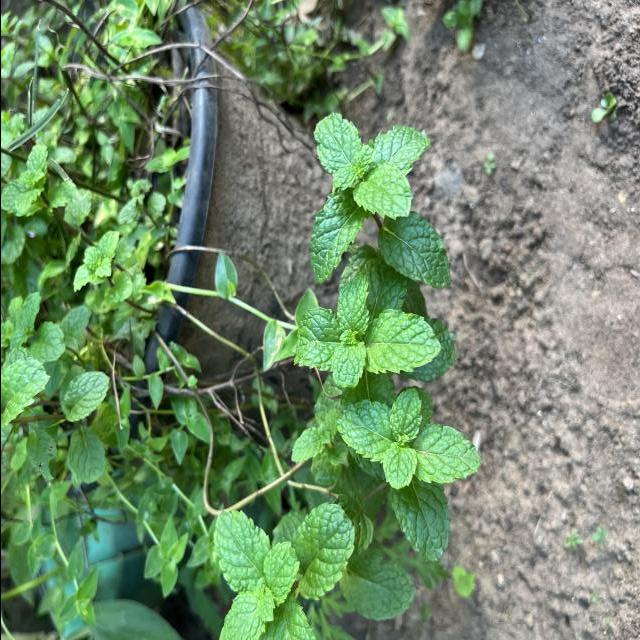Mentha spicata: (291, 501, 355, 602), (376, 209, 452, 291), (308, 190, 369, 284), (366, 308, 442, 376), (212, 508, 270, 594), (413, 422, 483, 484), (351, 158, 413, 220), (335, 398, 388, 464), (312, 110, 360, 174), (261, 539, 301, 607), (336, 274, 370, 336), (388, 386, 422, 442), (329, 343, 366, 390), (381, 442, 417, 489)
